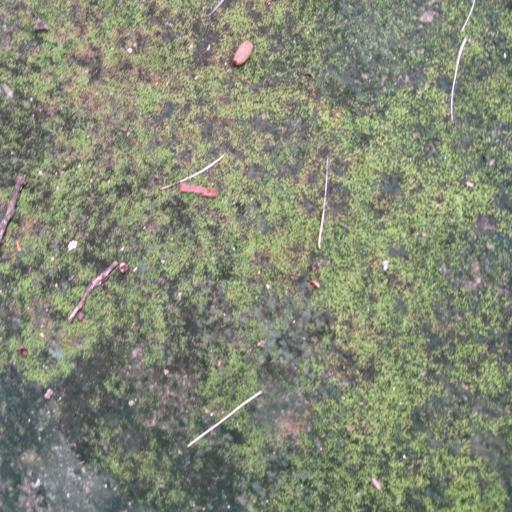algae: (3, 7, 512, 512)
